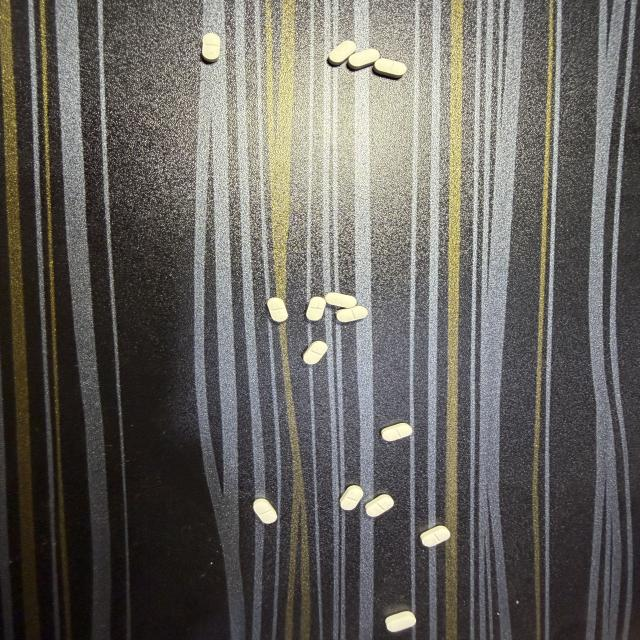pill: (328, 41, 356, 65), (366, 494, 393, 517), (385, 611, 416, 631), (348, 49, 379, 69), (374, 59, 406, 78), (421, 526, 450, 546), (340, 485, 363, 510), (381, 423, 412, 441), (303, 341, 327, 364), (254, 499, 277, 523), (202, 33, 220, 62), (325, 292, 357, 308), (336, 306, 368, 322), (268, 297, 288, 322), (306, 297, 326, 320)
